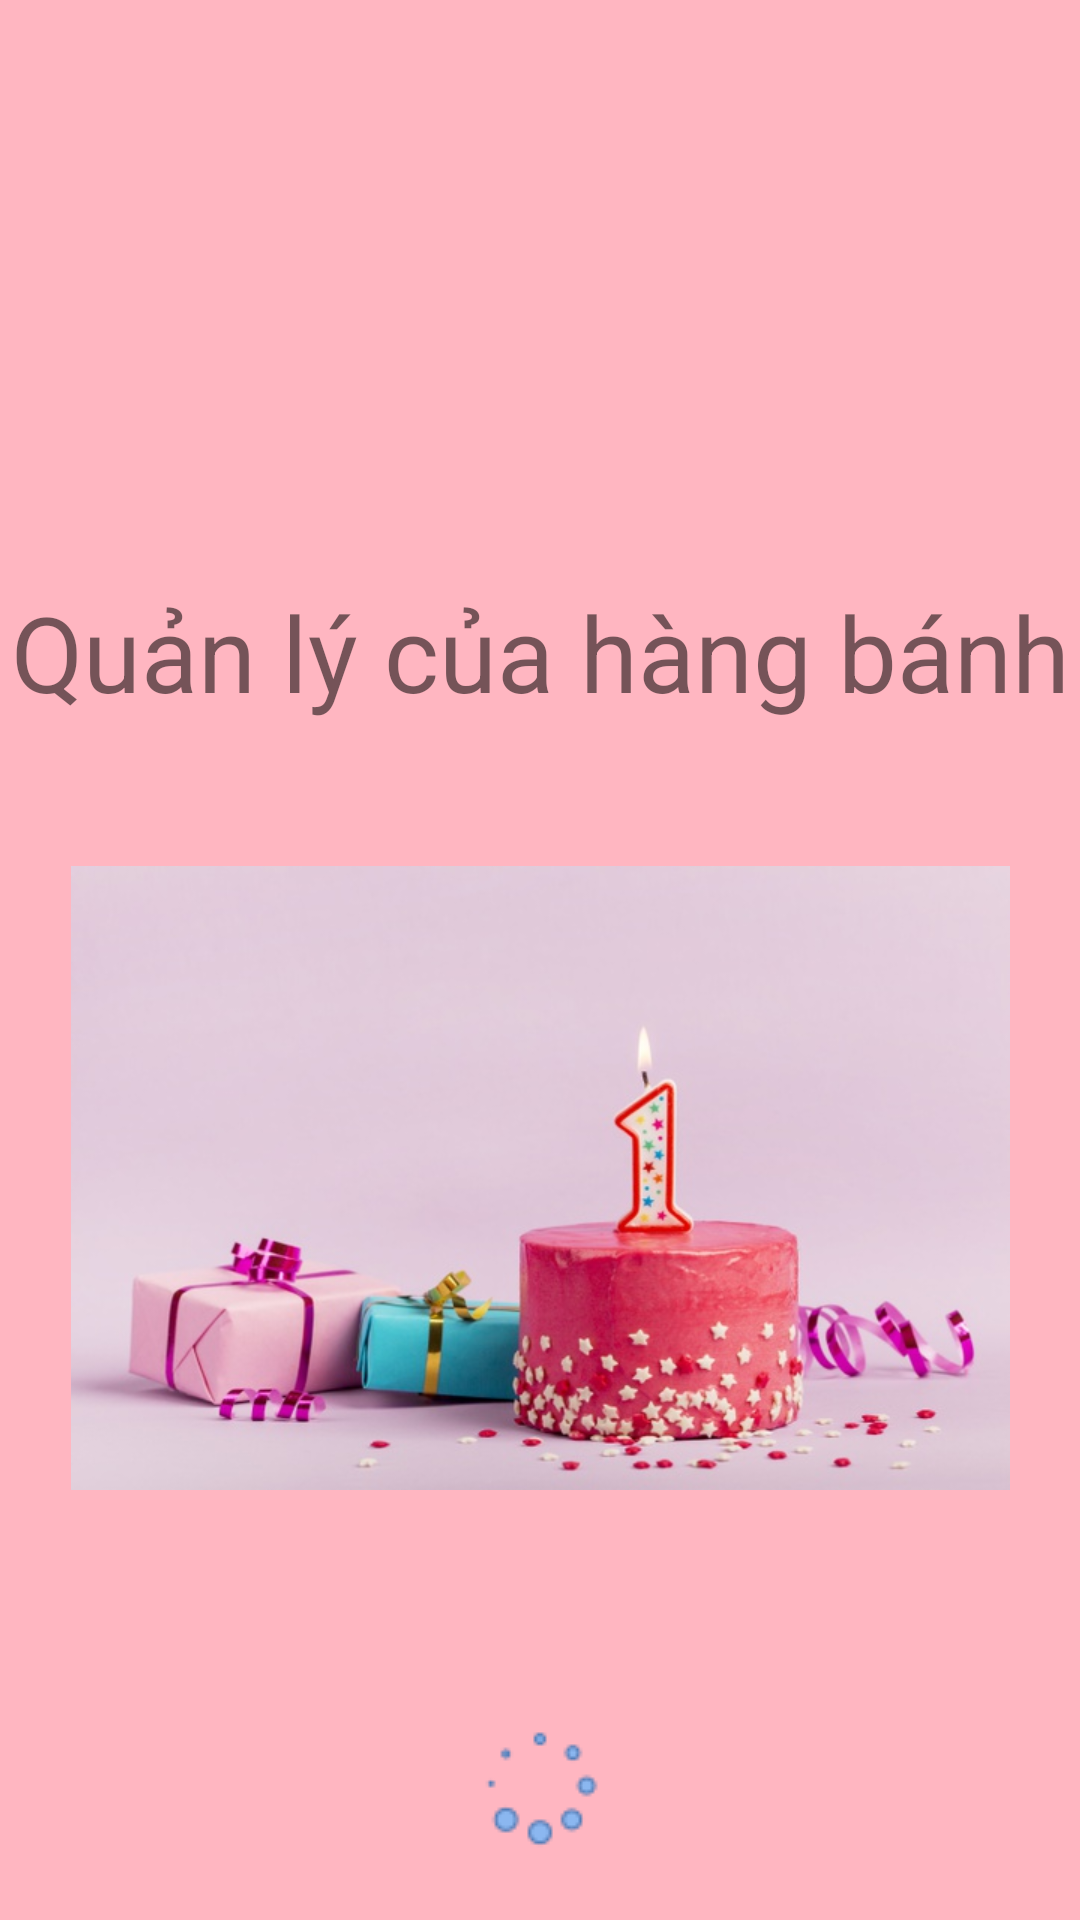

Screen size 1080px x 1920px. Icon name, then its box in pixels as (x1, y1, x2, y2):
load: (487, 1732, 598, 1845)
